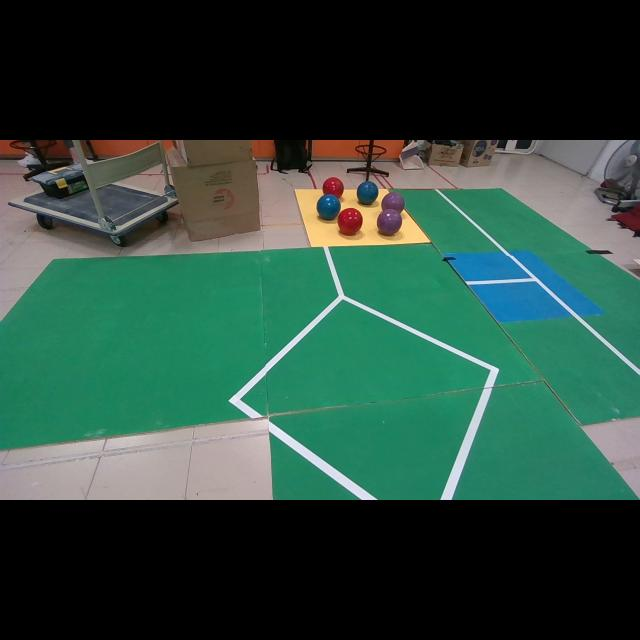B: (316, 195, 341, 220), (356, 181, 379, 204)
P: (376, 209, 402, 236), (381, 192, 405, 212)
R: (338, 208, 362, 234), (322, 178, 344, 198)
